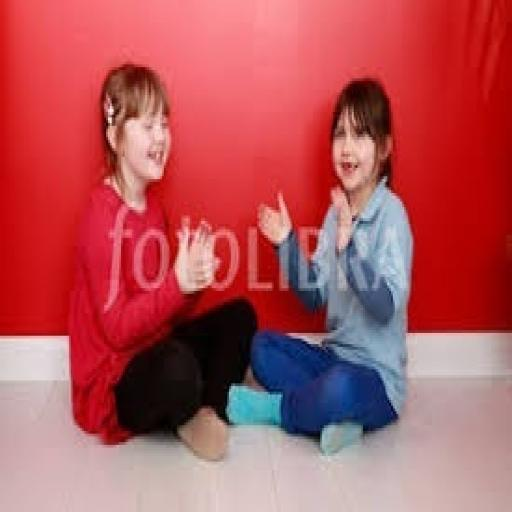clapping: (65, 59, 257, 464), (224, 73, 416, 456)
